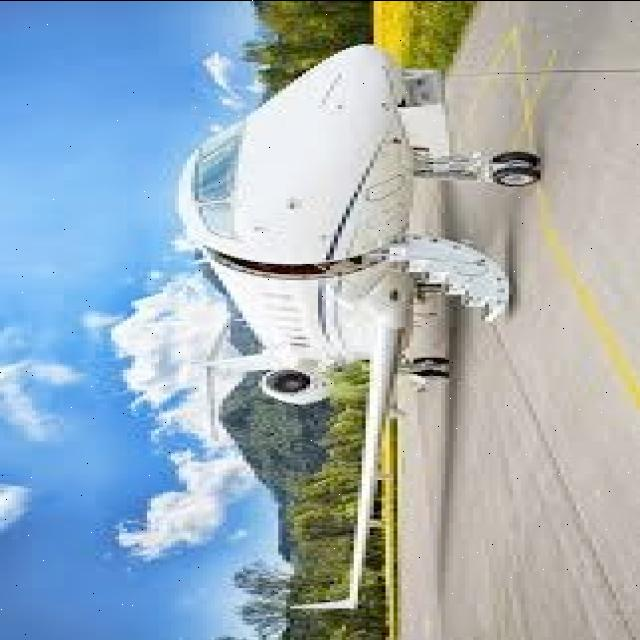jet: (133, 30, 623, 622)
